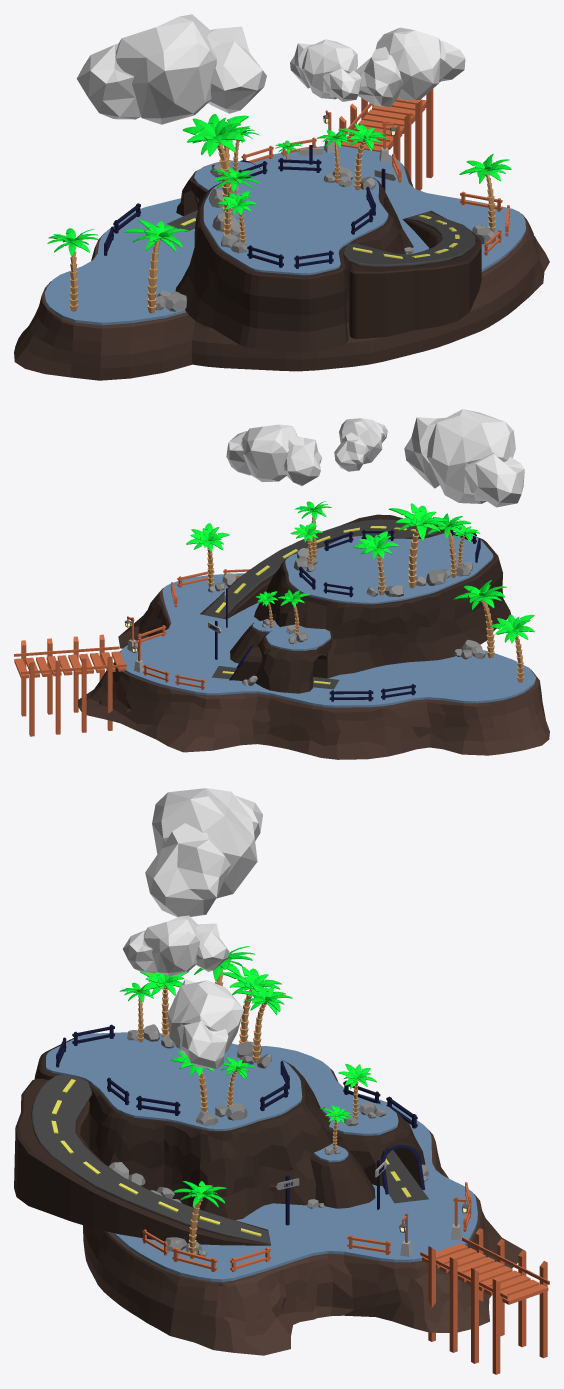
Rendered from Env.glb.
3 views of the same model, one above another, from view 1: azimuth 30°, elevation 25°; view 2: azimuth 150°, elevation 25°; view 3: azimuth 270°, elevation 25° (orthographic). The views are drawn at different scales.
Visible parts, largest first — view 1: Mprop.001, b.002, Mprop.002, Cloud.002, b, Mprop, Cloud, Cloud.001, Vert.025, Plane.032, Plane.033, b.003 (+1 smaller); view 2: Mprop.001, b.002, Mprop.002, Cloud.002, b, Cloud, Vert.025, Plane.032, Cloud.001, Plane.033, b.003, Mprop (+4 smaller); view 3: Mprop.001, Mprop.002, b.002, b, Cloud.002, Mprop, Vert.025, Cloud, Plane.032, Cloud.001, Plane.033, b.003 (+1 smaller).
Part boxes in pixels (x1,y1,x2,y2): Mprop.001: [14, 163, 549, 380]; b.002: [44, 145, 525, 325]; Mprop.002: [175, 160, 413, 352]; Cloud.002: [76, 14, 266, 124]; b: [203, 164, 388, 275]; Mprop: [348, 210, 481, 338]; Cloud: [355, 27, 465, 107]; Cloud.001: [290, 39, 361, 101]; Vert.025: [343, 211, 475, 267]; Plane.032: [339, 89, 433, 190]; Plane.033: [341, 97, 426, 151]; b.003: [194, 160, 259, 190]; Mprop.001: [78, 588, 549, 759]; b.002: [120, 573, 535, 707]; Mprop.002: [230, 537, 510, 693]; Cloud.002: [404, 409, 524, 507]; b: [285, 531, 493, 604]; Cloud: [226, 424, 321, 486]; Vert.025: [203, 519, 438, 618]; Plane.032: [21, 634, 112, 736]; Cloud.001: [334, 418, 387, 471]; Plane.033: [14, 651, 126, 678]; b.003: [265, 624, 330, 650]; Mprop: [200, 514, 444, 619]; Mprop.001: [83, 1068, 524, 1355]; Mprop.002: [34, 1035, 425, 1220]; b.002: [112, 1046, 477, 1281]; b: [46, 1032, 302, 1130]; Cloud.002: [145, 788, 262, 917]; Mprop: [14, 1078, 270, 1245]; Vert.025: [31, 1074, 270, 1243]; Cloud: [167, 979, 243, 1068]; Plane.032: [428, 1228, 547, 1374]; Cloud.001: [123, 915, 229, 976]; Plane.033: [422, 1243, 548, 1304]; b.003: [322, 1102, 398, 1135].
Bounding box in the file's own units: 20.16 × 13.01 × 16.79.
